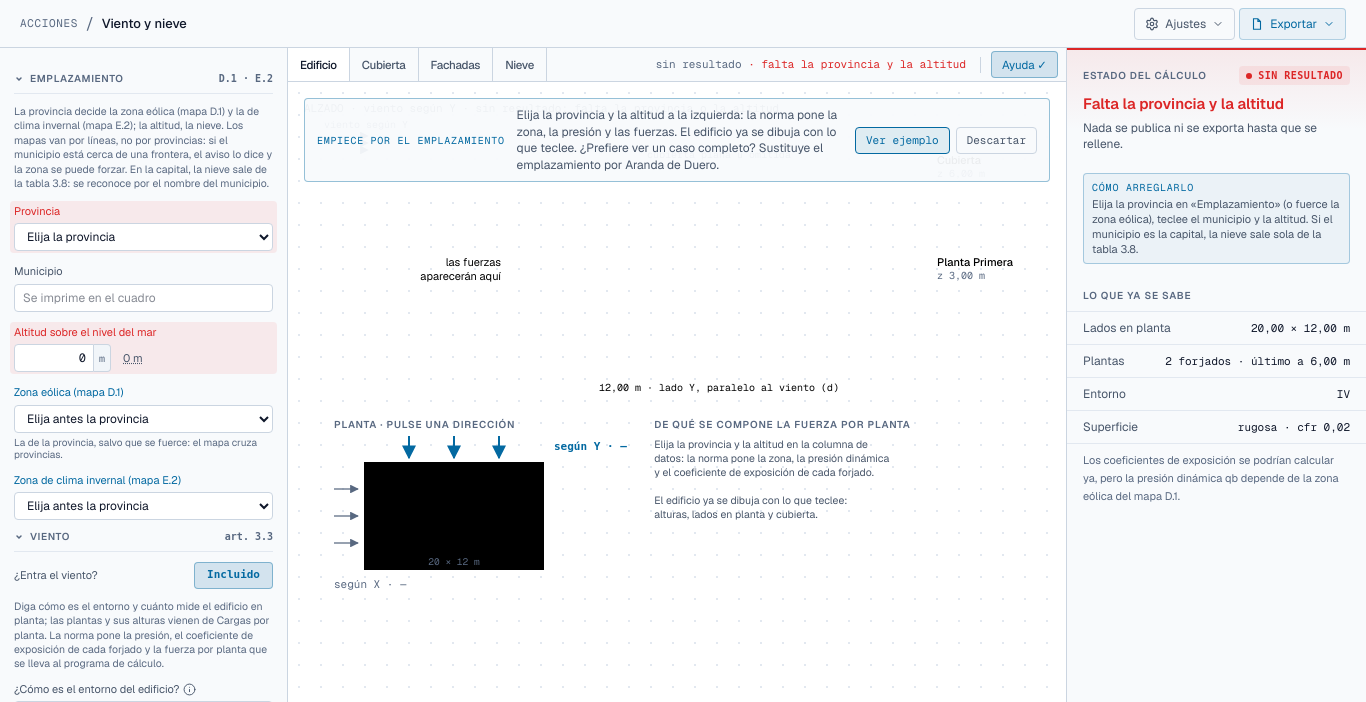
Viento y nieve — módulo › elegir Madrid y una altitud rellena zonas, cotas, fuerzas por planta y publica
The image size is (1366, 702).
Select "Madrid" in the dropdown named "Provincia" at (144, 237), box x1=14 y1=223 x2=273 y2=251
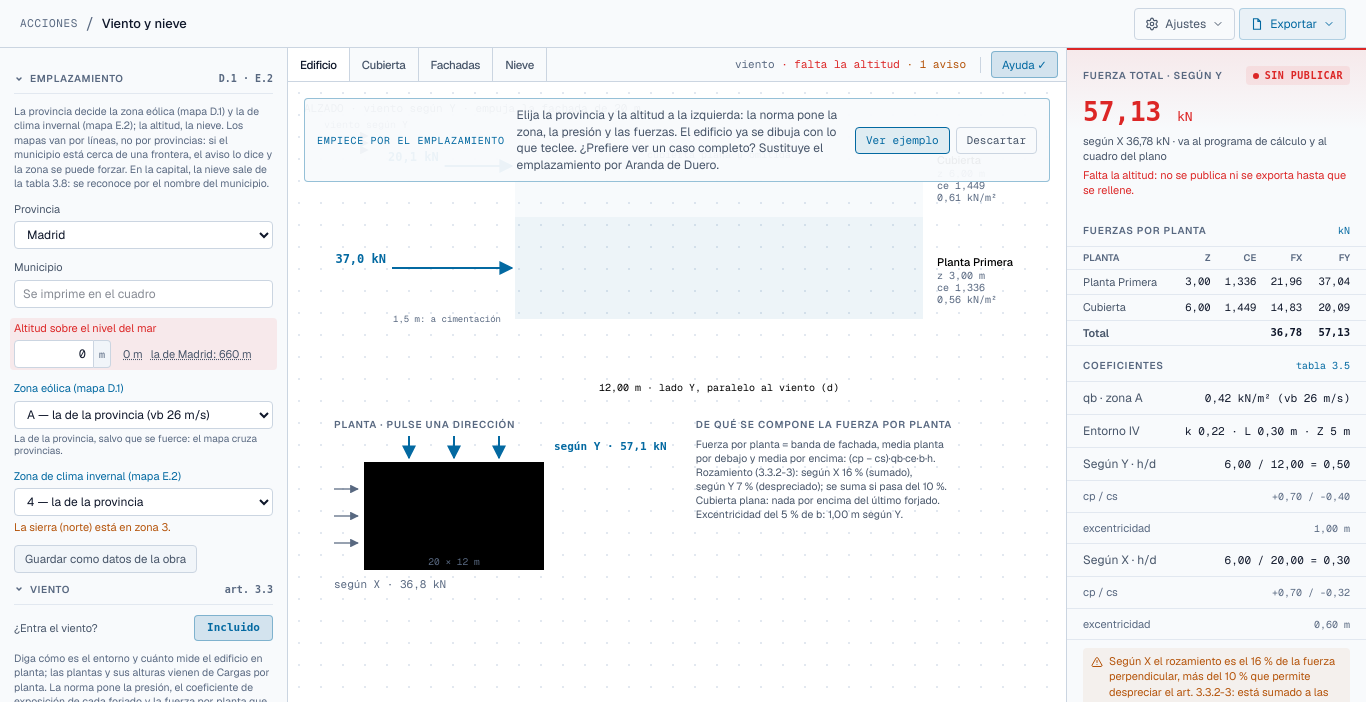
Replace the text in the field named "Altitud" with "660" at (54, 354), box x1=14 y1=340 x2=94 y2=368
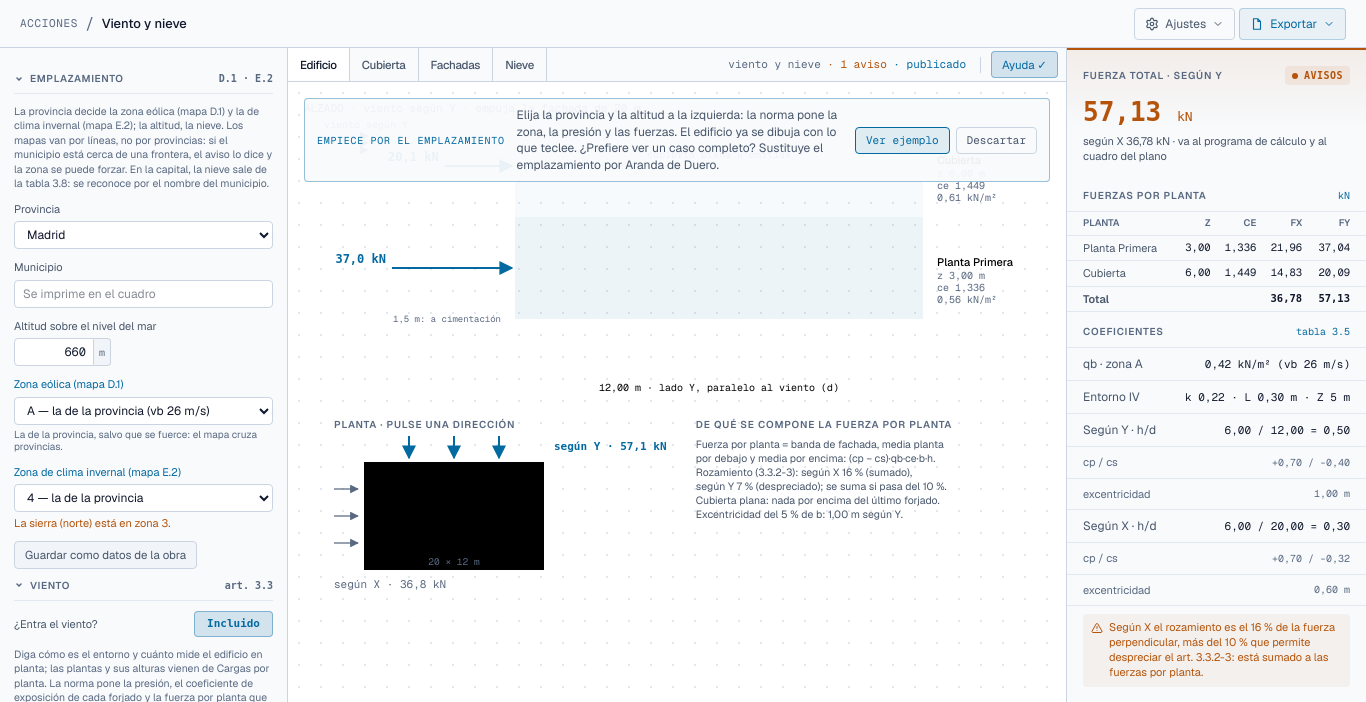
Check: the cell "6,00" is shown, box x1=1176 y1=260 x2=1214 y2=286
Check: the cell "14,83" is shown, box x1=1260 y1=260 x2=1306 y2=286
Check: the cell "20,09" is shown, box x1=1306 y1=260 x2=1365 y2=286
Click the button "Nieve" at (520, 65), box x1=493 y1=48 x2=547 y2=81
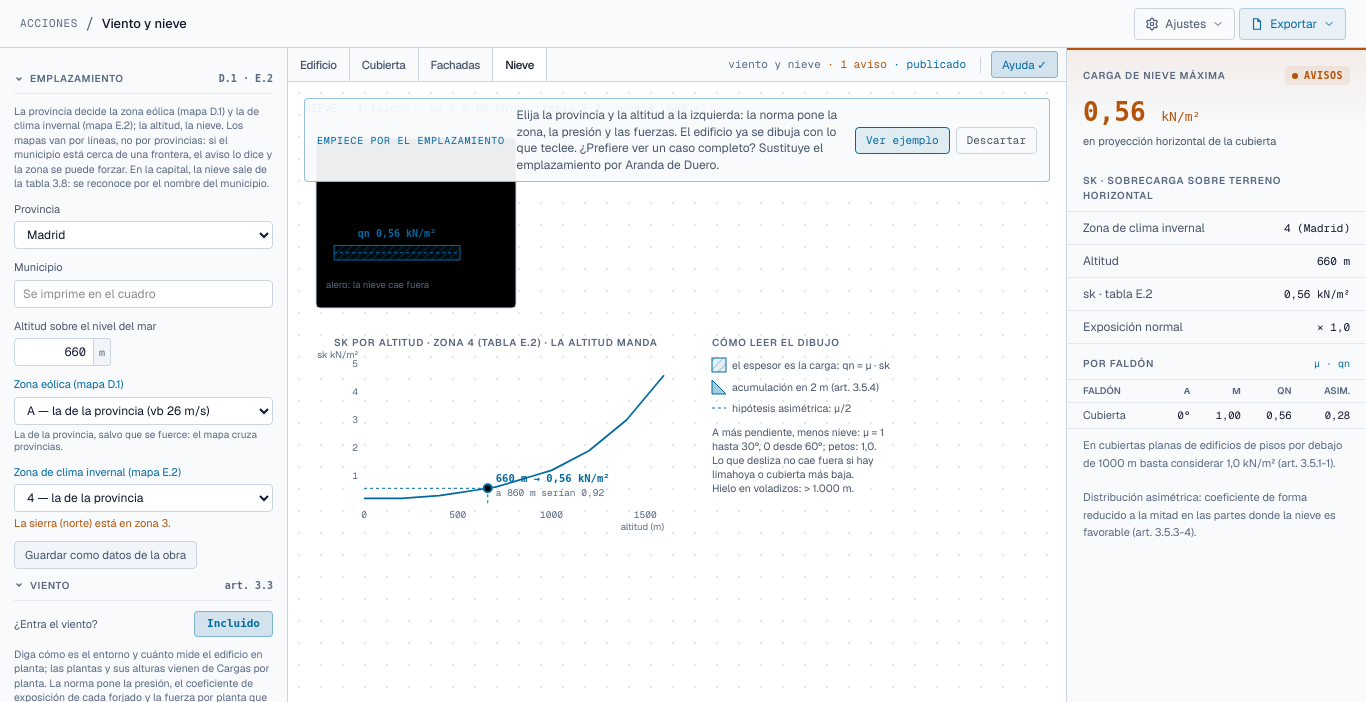
Check: the text "sk · tabla E.2" is shown, box x1=1083 y1=285 x2=1153 y2=303
Check: the text "0,56 kN/m²" is shown, box x1=1284 y1=286 x2=1350 y2=302
